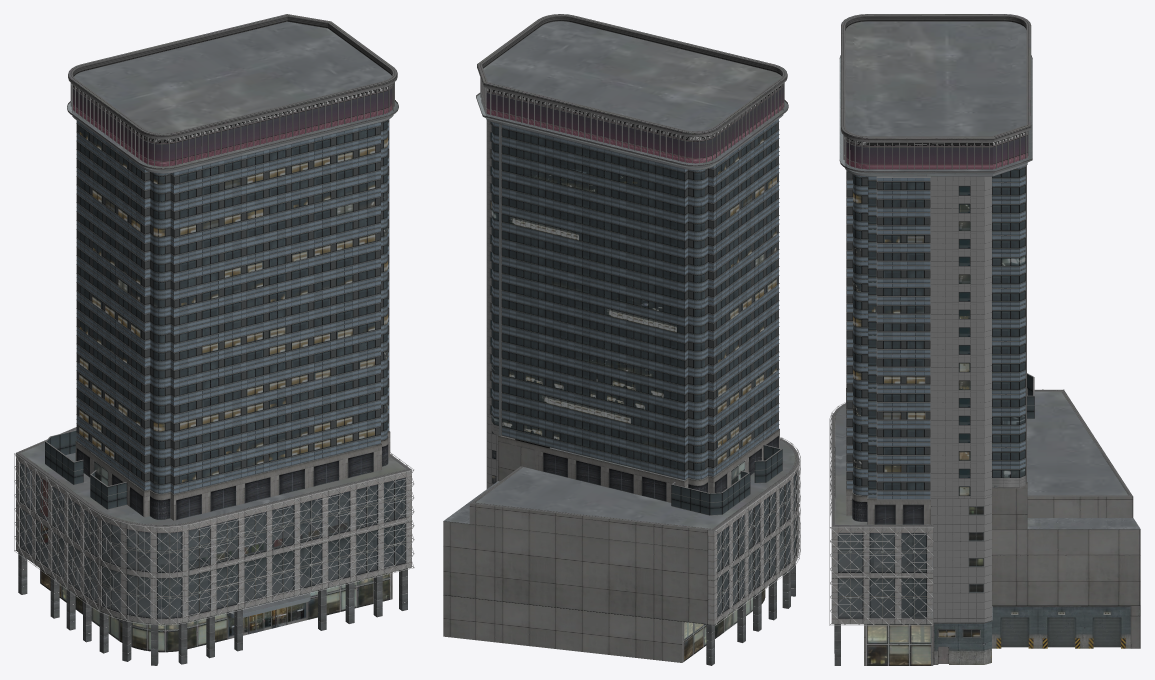
Rendered from tower.glb.
3 views of the same model, side by side, from view 1: azimuth 30°, elevation 25°; view 2: azimuth 150°, elevation 25°; view 3: azimuth 270°, elevation 25° (orthographic). The views are drawn at different scales.
Parts seen in each view (by area): view 1: Object_12, Object_10, Object_14, Object_8, Object_6, Object_18; view 2: Object_12, Object_6, Object_10, Object_18, Object_8, Object_14; view 3: Object_12, Object_6, Object_10, Object_14, Object_18, Object_8.
Boxes of the visible parts, x1,y1,x2,y2 form: Object_12: (16,14,411,665); Object_10: (20,462,405,618); Object_14: (20,464,404,617); Object_8: (14,452,414,625); Object_6: (40,431,392,599); Object_18: (41,132,389,643); Object_12: (444,14,798,665); Object_6: (443,429,779,662); Object_10: (717,470,797,615); Object_18: (491,139,776,659); Object_8: (715,437,800,625); Object_14: (515,439,797,615); Object_12: (831,14,1140,665); Object_6: (846,388,1140,665); Object_10: (838,533,926,618); Object_14: (838,533,925,617); Object_18: (853,193,1025,664); Object_8: (829,389,1064,625).
Size of the model in its own units: 59.28 by 106 by 56.44.
Materials: 7 (6 with a texture image).
